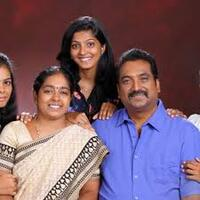person: (107, 41, 172, 125), (28, 59, 75, 132), (55, 16, 113, 73)
